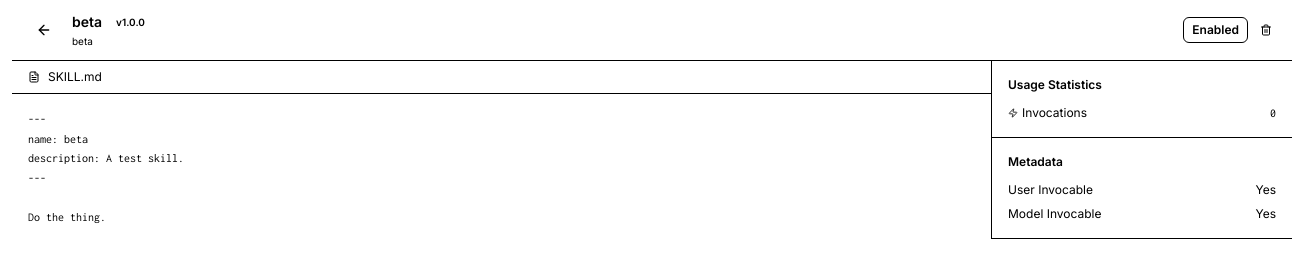
Test case: SkillDetailPage › keeps the edit and delete controls for a workspace skill
Expected: the button named "Delete skill" is shown, x1=1256 y1=20 x2=1276 y2=40
In the text box: point(502, 166) x1=12 y1=94 x2=991 y2=239, type "more"
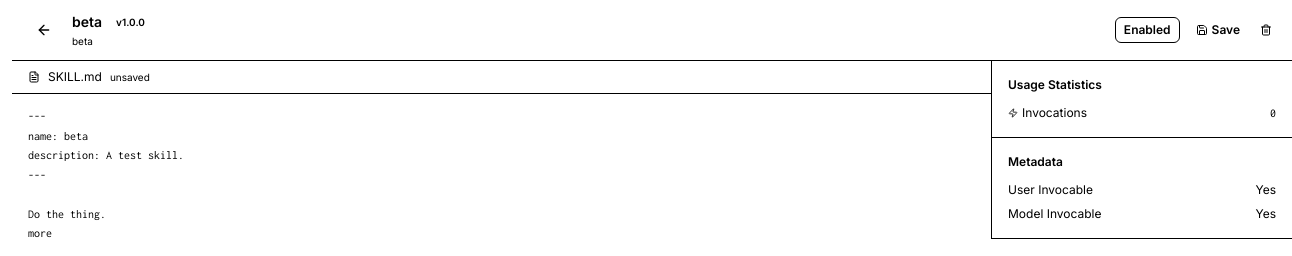
Expected: the button "Save" is shown, x1=1188 y1=18 x2=1248 y2=42
